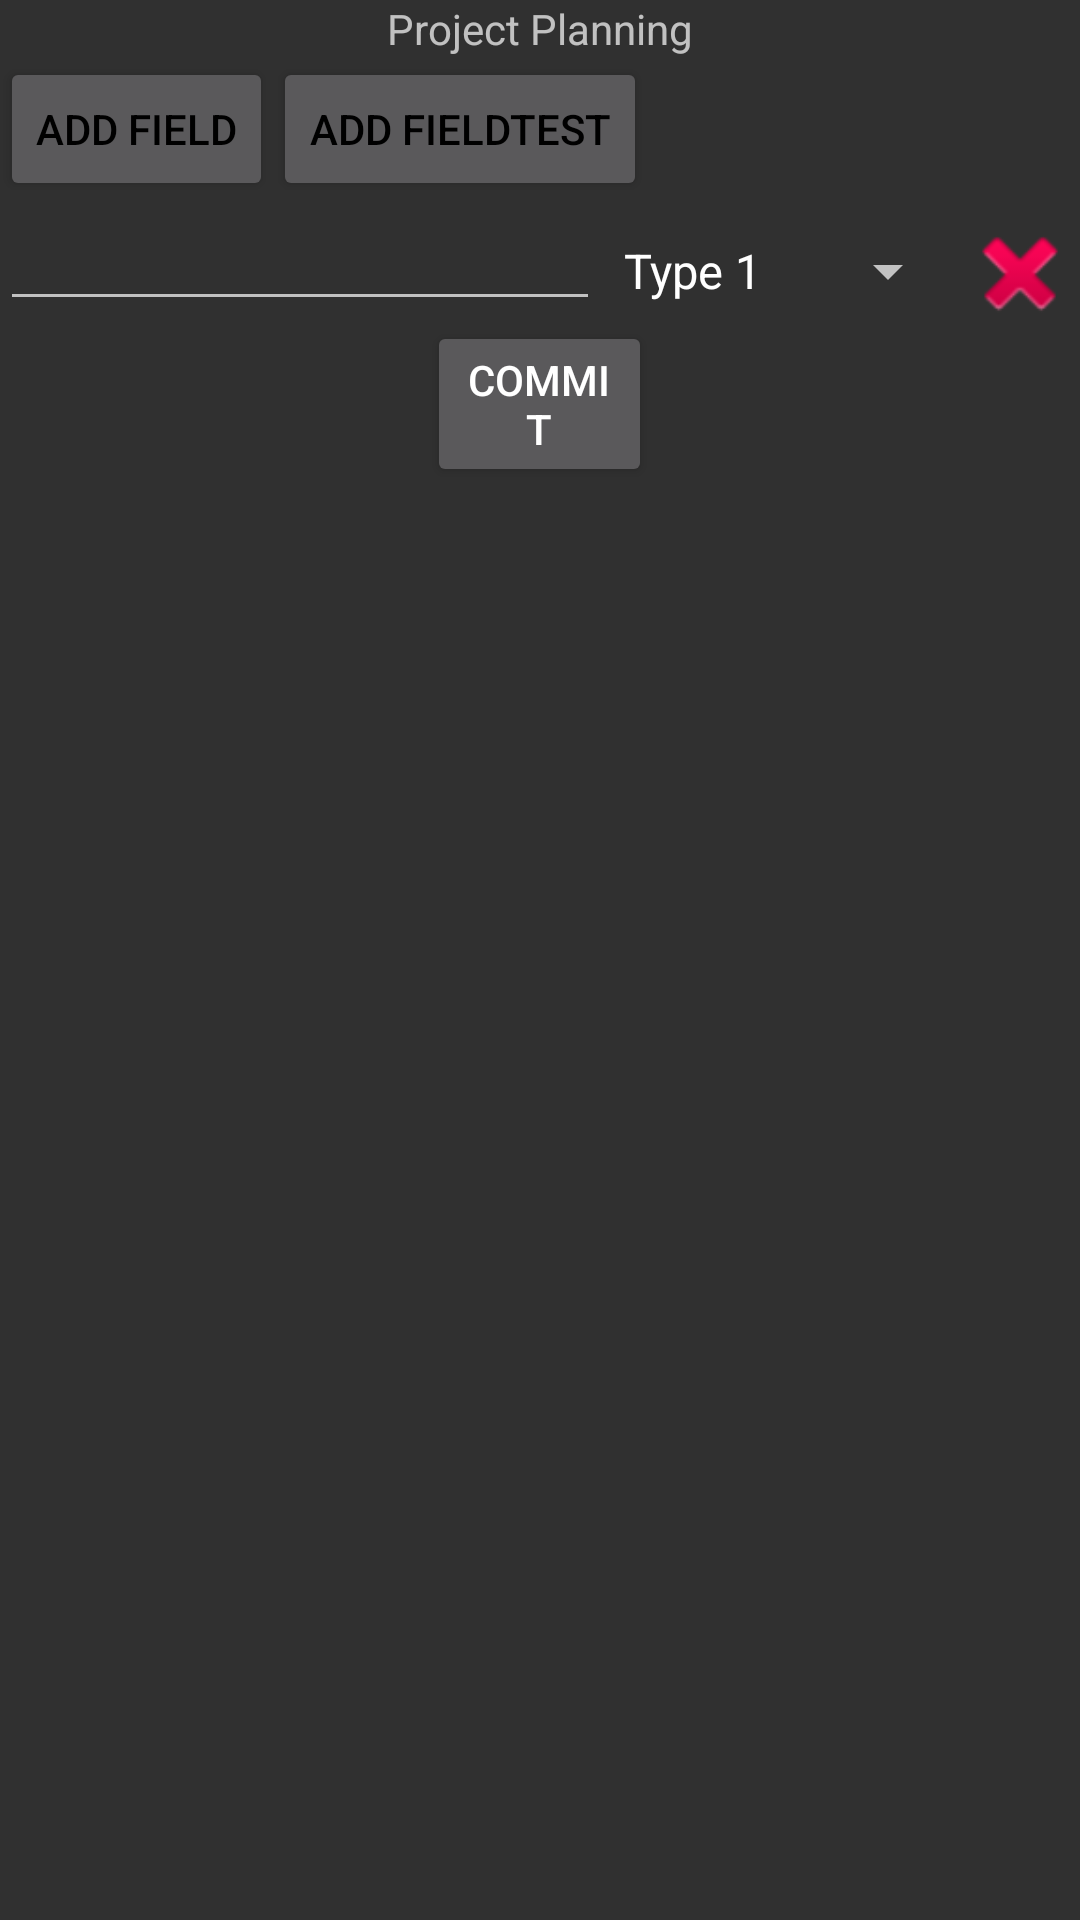

Named icons in this screenshot (1080*1920) and their bounding boxes, (x1, y1, x2, y2):
delete: (982, 237, 1058, 311)
